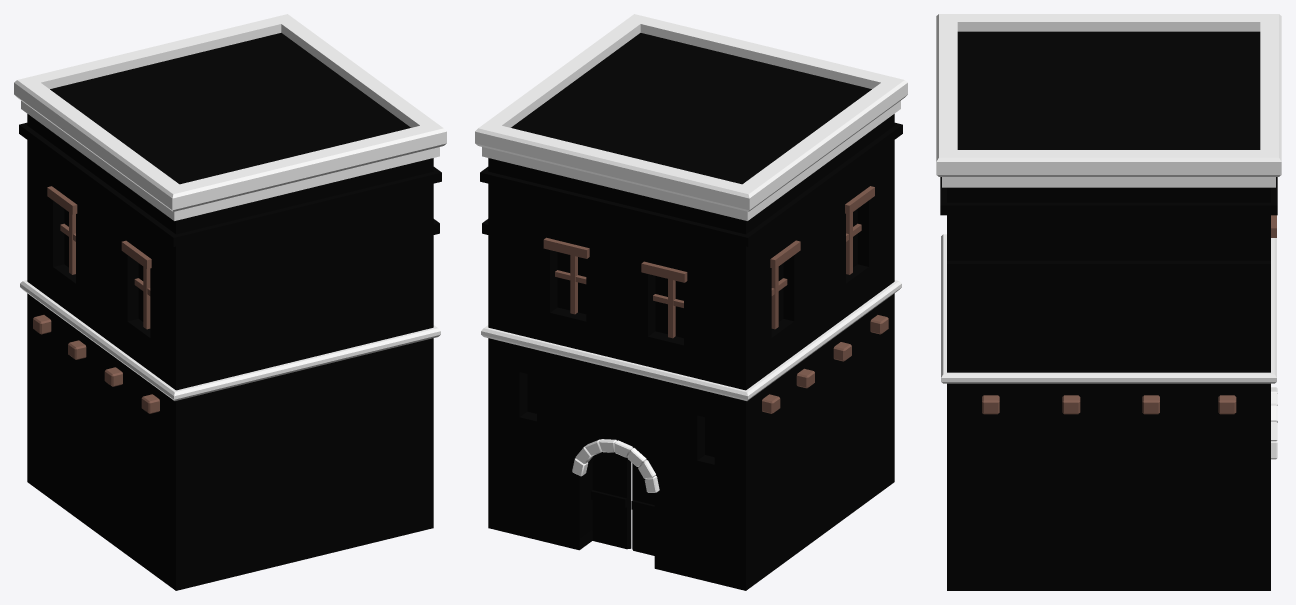
Rendered from civilian_house_27.FBX.
3 renders of one model, left to right at view 1: azimuth 30°, elevation 25°; view 2: azimuth 150°, elevation 25°; view 3: azimuth 270°, elevation 25°, orthographic. The views are drawn at different scales.
Visible parts, largest first — view 1: civilian_house_27_LOD0; view 2: civilian_house_27_LOD0; view 3: civilian_house_27_LOD0.
Part boxes in pixels (x1,y1,x2,y2): civilian_house_27_LOD0: (14, 14, 446, 590); civilian_house_27_LOD0: (475, 14, 907, 590); civilian_house_27_LOD0: (936, 14, 1281, 590).
Size of what is drawn, in the model's own units: 597 by 818 by 586.
